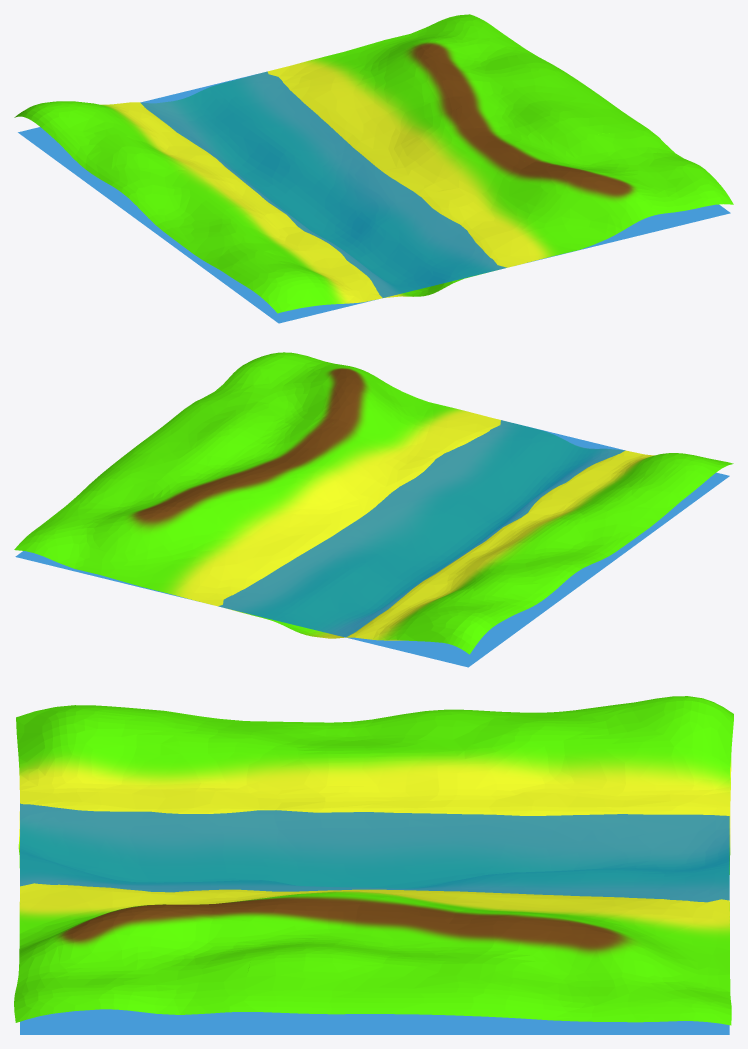
Rendered from World.glb.
The picture shows the model from 3 angles, top to bottom: view 1: azimuth 30°, elevation 25°; view 2: azimuth 150°, elevation 25°; view 3: azimuth 270°, elevation 25°; orthographic projection. The views are drawn at different scales.
Parts seen in each view (by area): view 1: Grid, Plane; view 2: Grid, Plane; view 3: Grid, Plane.
Part boxes in pixels (x1=…): Grid: x1=14, y1=14, x2=733, y2=313; Plane: x1=18, y1=71, x2=730, y2=323; Grid: x1=14, y1=352, x2=733, y2=654; Plane: x1=15, y1=420, x2=729, y2=667; Grid: x1=14, y1=696, x2=733, y2=1025; Plane: x1=20, y1=803, x2=729, y2=1034.
Size of the model in its own units: 51.19 by 7.67 by 50.71.
Materials: 2 (1 with a texture image).
